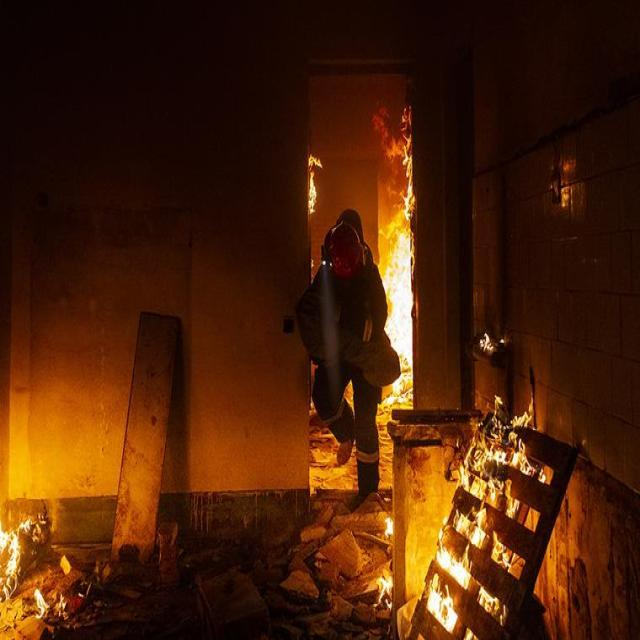Fire: (374, 115, 415, 402), (0, 518, 22, 602), (426, 577, 458, 634), (434, 539, 468, 588), (468, 508, 488, 550), (309, 156, 322, 214)
